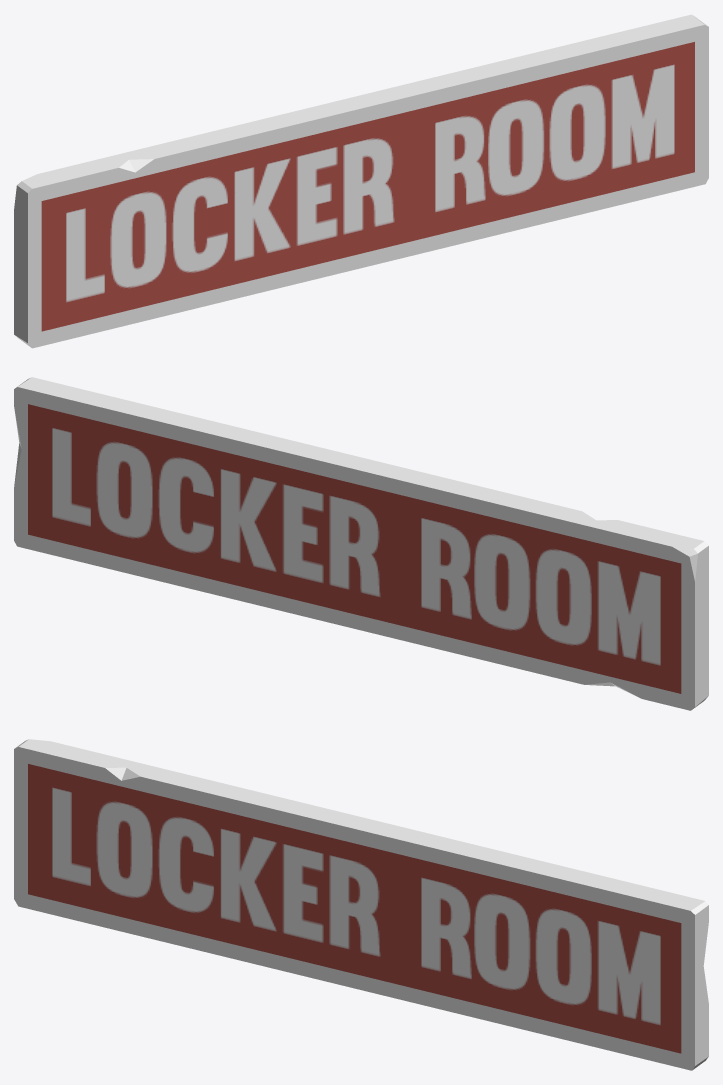
Rendered from SM_Sign_LockerRoom_01.fbx.
3 renders of one model, top to bottom at view 1: azimuth 30°, elevation 25°; view 2: azimuth 150°, elevation 25°; view 3: azimuth 330°, elevation 25°, orthographic.
Parts seen in each view (by area): view 1: SM_Sign_LockerRoom_01; view 2: SM_Sign_LockerRoom_01; view 3: SM_Sign_LockerRoom_01.
Boxes of the visible parts, x1,y1,x2,y2 form: SM_Sign_LockerRoom_01: (14, 14, 708, 348); SM_Sign_LockerRoom_01: (14, 377, 708, 710); SM_Sign_LockerRoom_01: (14, 739, 708, 1070).
Size of the model in its own units: 410 by 91.8 by 14.42.
1 material, 1 textured.
